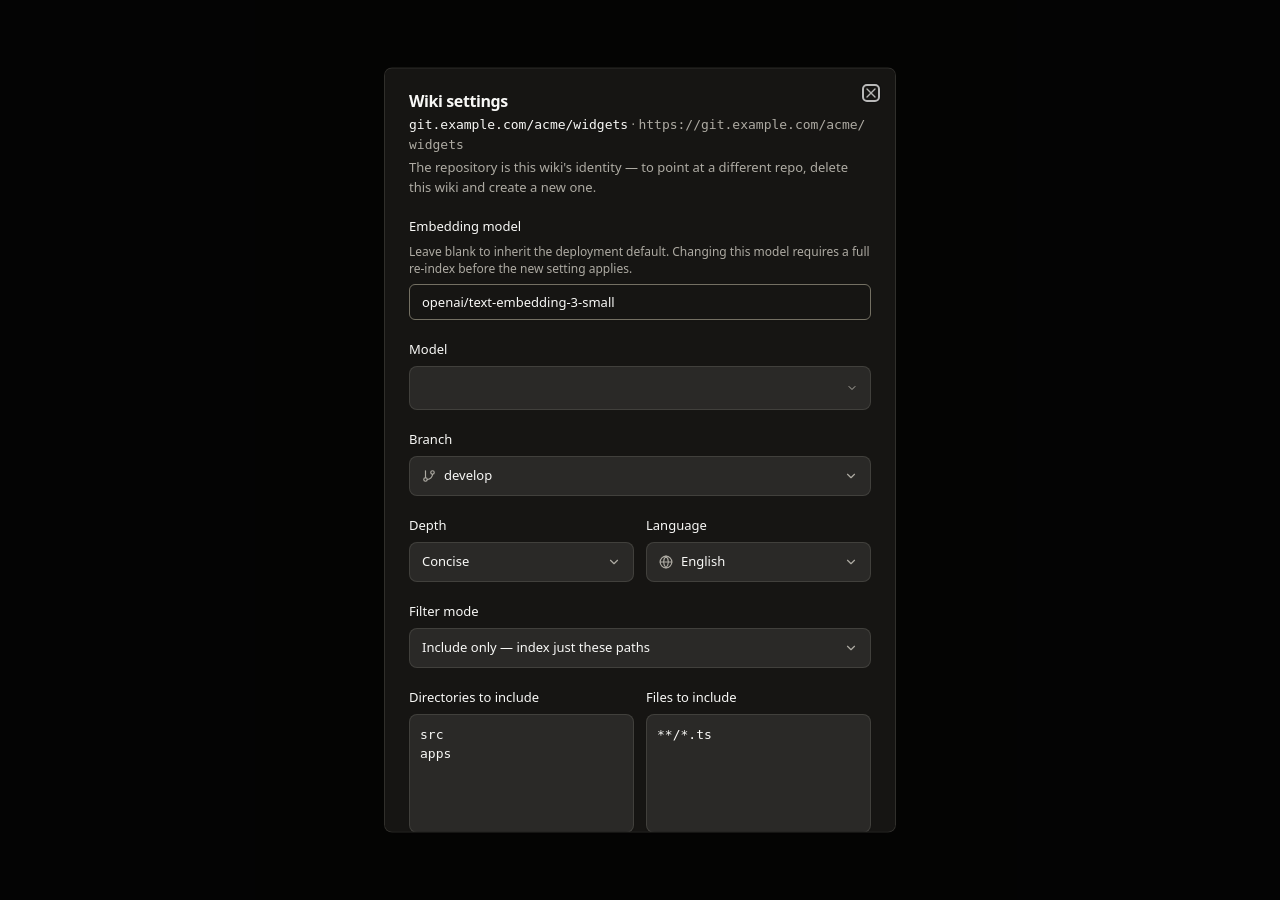
it: ProjectSettingsDialog — errors stay inside the dialog › pins per-field 400 validation errors to their inputs
The width and height of the screenshot is (1280, 900).
Check: the dropdown named "Depth" shows "Concise", box [422,552,621,571]
Select "French" in the dropdown named "Language" at (770,561), box [681,552,858,571]
(page scrolled)
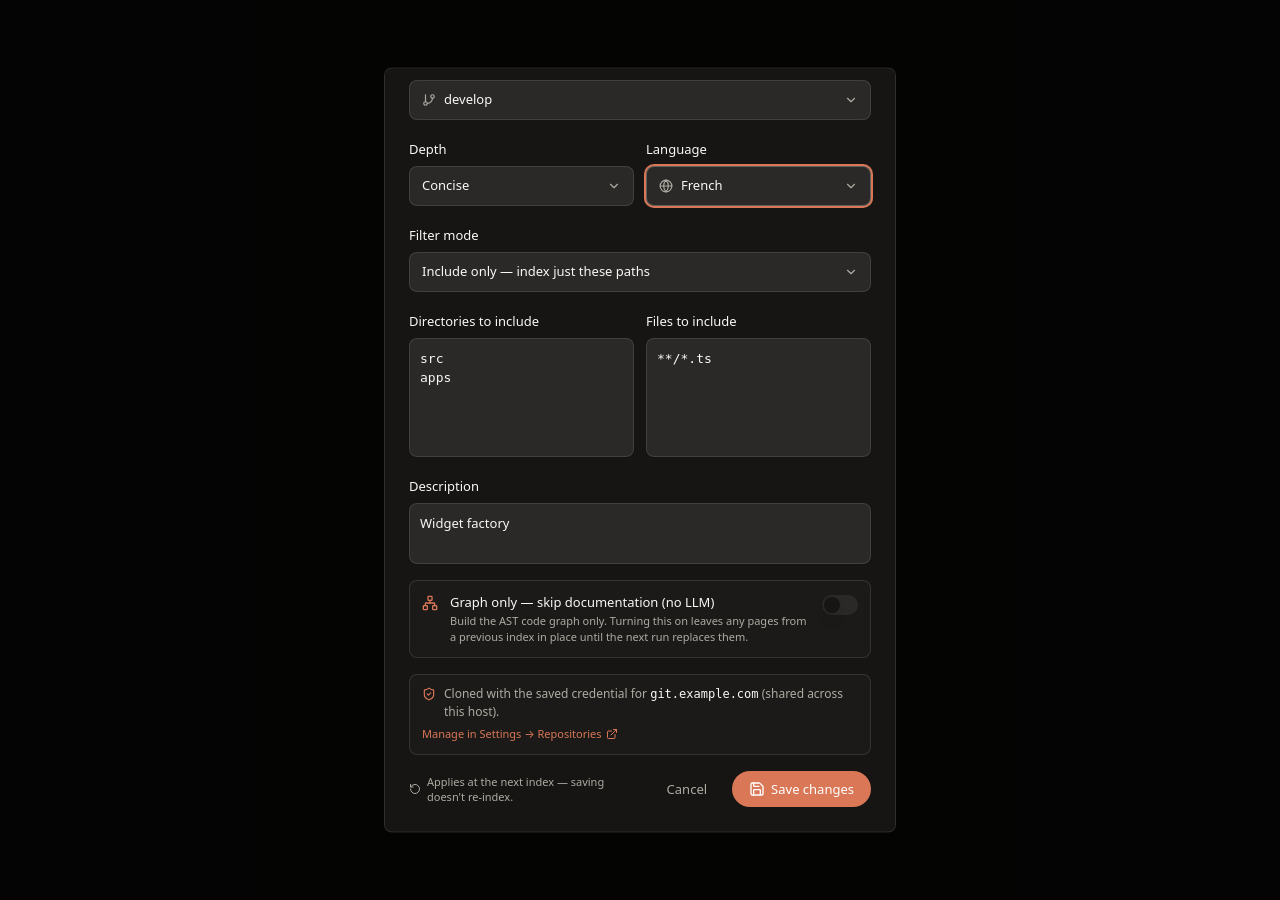
Click the button "Save changes" at (802,790), box [732,772,871,808]
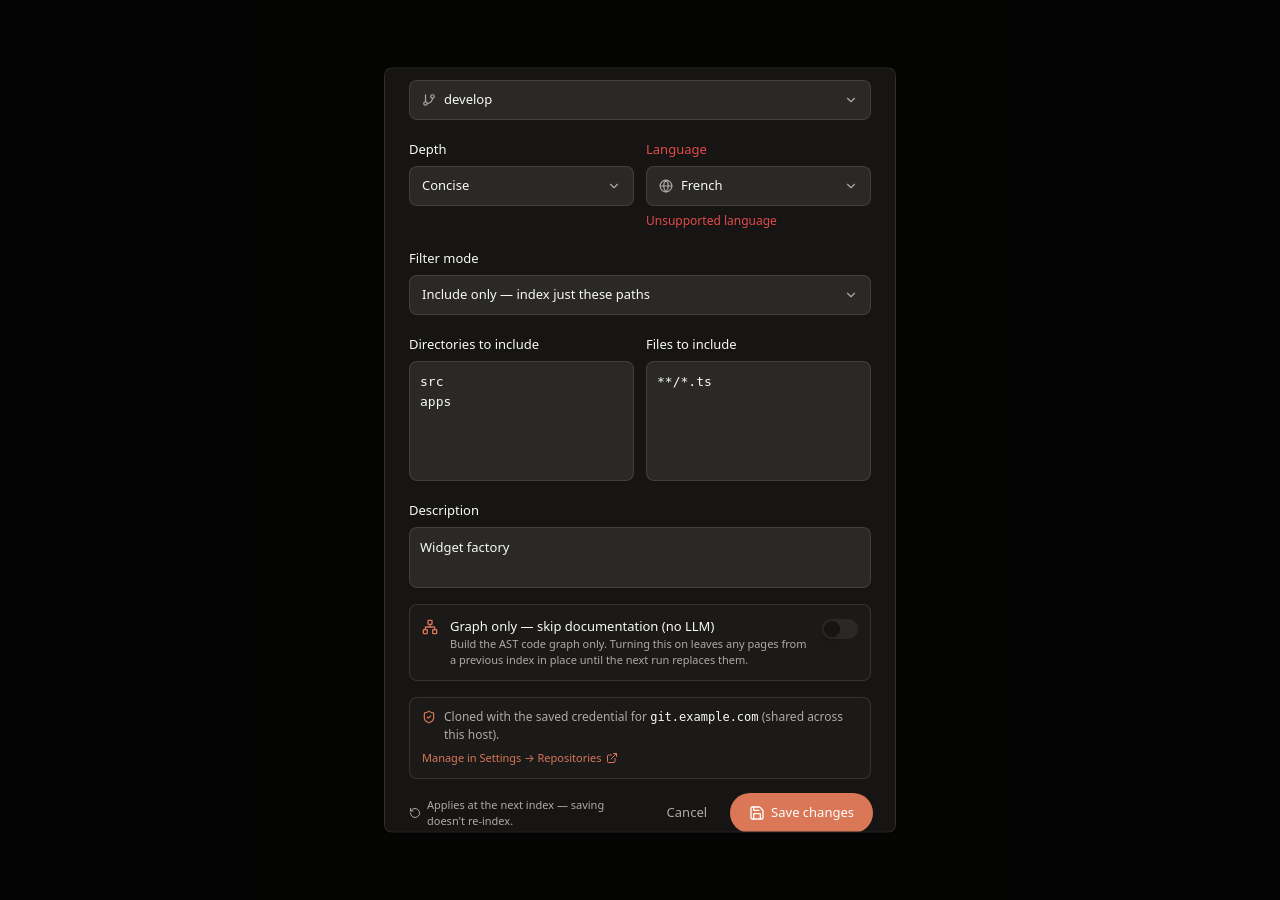
Check: the text "Unsupported language" is shown, box [646,212,777,229]
